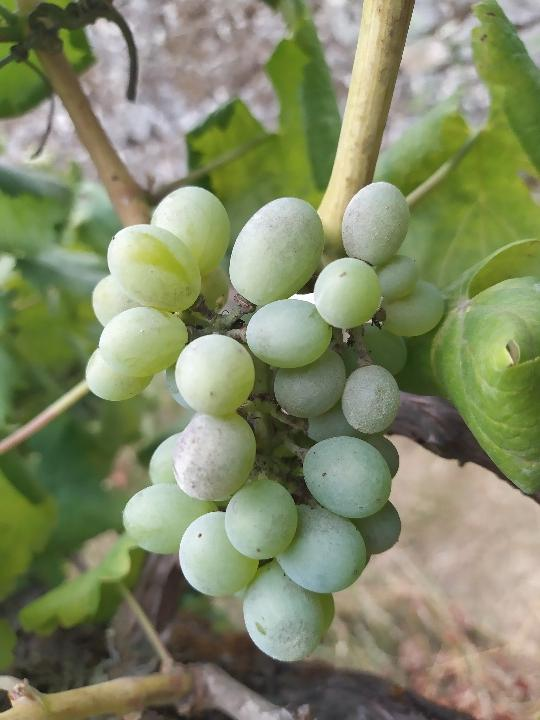grape: (81, 173, 446, 668)
